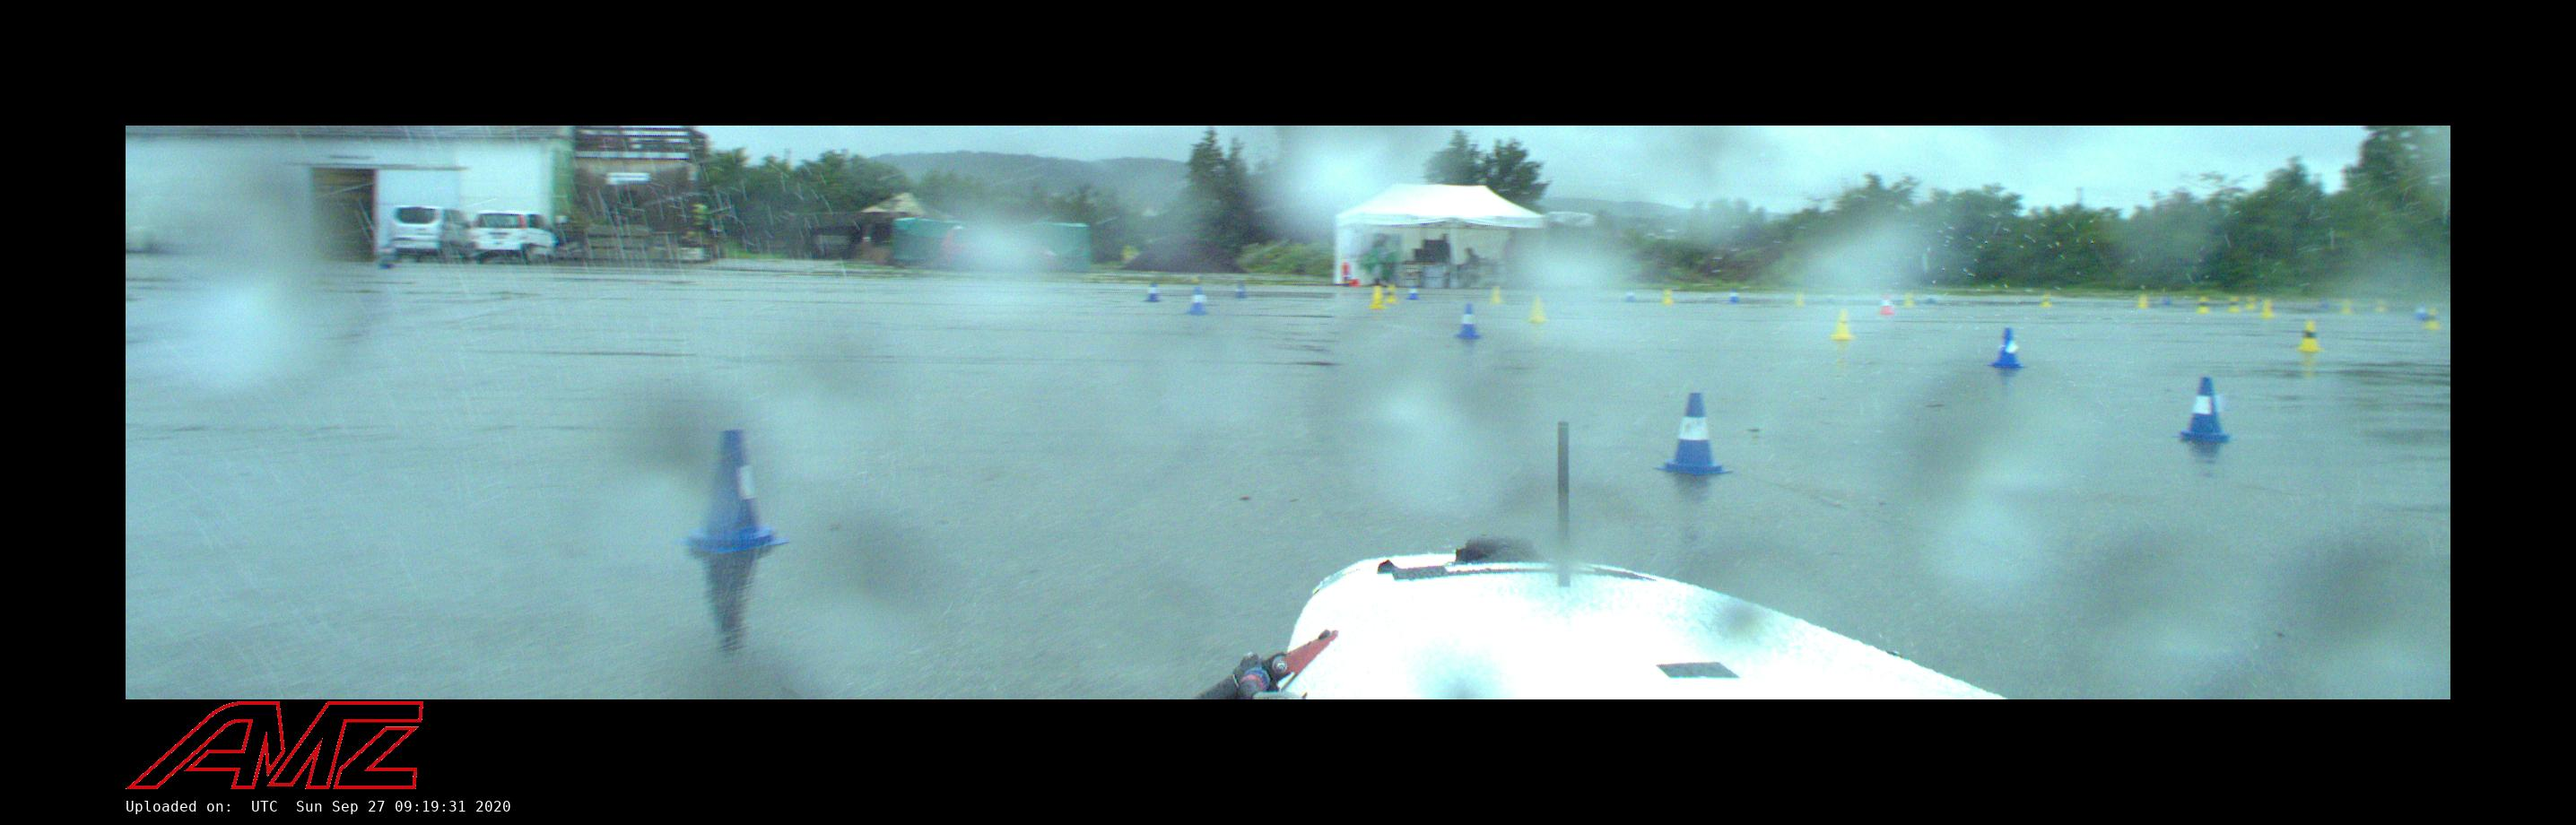blue_cone: (670, 429, 788, 553), (1654, 393, 1733, 474), (2173, 377, 2232, 439), (1988, 327, 2028, 369), (1454, 303, 1483, 339), (1187, 287, 1208, 315), (1143, 282, 1162, 302), (1233, 282, 1248, 299), (1406, 285, 1419, 300), (1625, 287, 1638, 302), (1728, 289, 1742, 302), (2416, 304, 2428, 318)
orange_cone: (1877, 292, 1898, 315)
yellow_cone: (2295, 320, 2324, 352), (1831, 309, 1855, 339), (1527, 297, 1546, 322), (1370, 286, 1386, 309), (1386, 285, 1399, 304), (1489, 286, 1503, 303), (2197, 297, 2211, 313), (2428, 310, 2440, 328), (1661, 289, 1674, 305), (2261, 301, 2272, 317), (2228, 297, 2240, 311), (2041, 294, 2053, 307), (1903, 292, 1915, 306), (1795, 291, 1804, 307), (2138, 296, 2149, 308), (2342, 300, 2351, 313), (2246, 297, 2255, 309)
